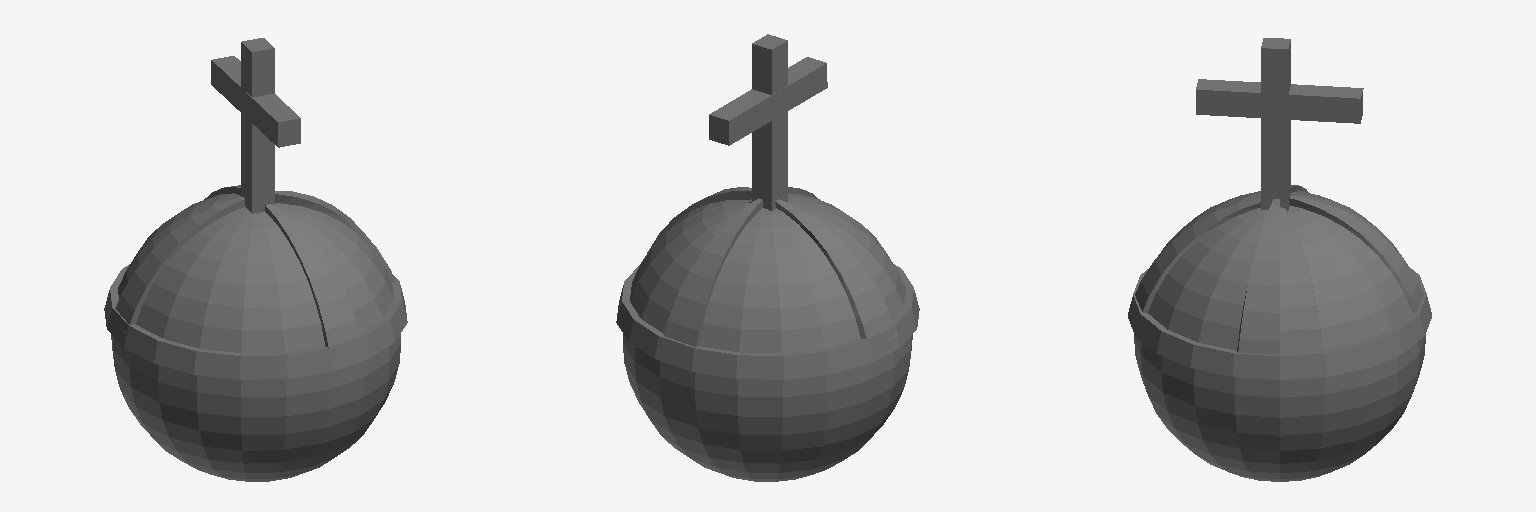
Rendered from Holy.obj.
The picture shows the model from 3 angles: view 1: azimuth 30°, elevation 25°; view 2: azimuth 150°, elevation 25°; view 3: azimuth 270°, elevation 25°; orthographic projection.
Visible parts, largest first — view 1: pSphere1 Mesh, pCube1 Mesh, pasted__pCube1 group Mesh; view 2: pSphere1 Mesh, pCube1 Mesh, pasted__pCube1 group Mesh; view 3: pSphere1 Mesh, pasted__pCube1 group Mesh, pCube1 Mesh.
Boxes of the visible parts, x1=… form: pSphere1 Mesh: x1=104, y1=185, x2=407, y2=481; pCube1 Mesh: x1=241, y1=38, x2=274, y2=213; pasted__pCube1 group Mesh: x1=211, y1=56, x2=300, y2=147; pSphere1 Mesh: x1=616, y1=187, x2=919, y2=481; pCube1 Mesh: x1=752, y1=34, x2=787, y2=210; pasted__pCube1 group Mesh: x1=709, y1=57, x2=827, y2=145; pSphere1 Mesh: x1=1128, y1=185, x2=1431, y2=481; pasted__pCube1 group Mesh: x1=1196, y1=79, x2=1363, y2=123; pCube1 Mesh: x1=1261, y1=38, x2=1290, y2=210.
Bounding box in the file's own units: 2.44 × 3.75 × 2.44.